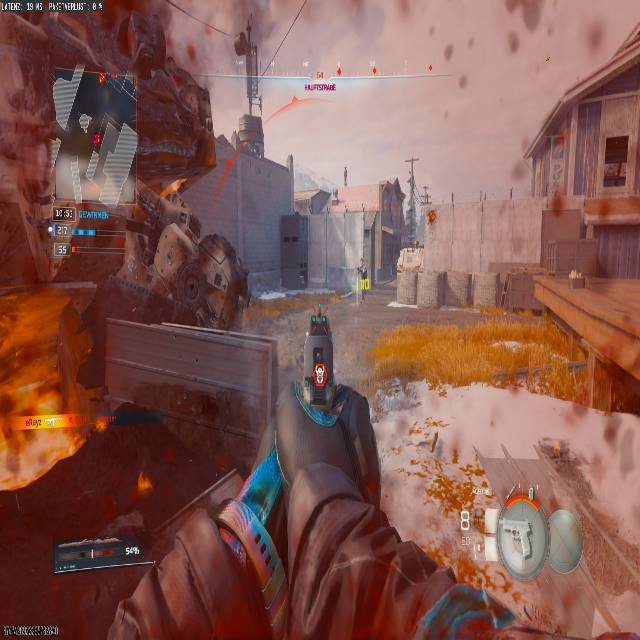player: (356, 262, 367, 279)
